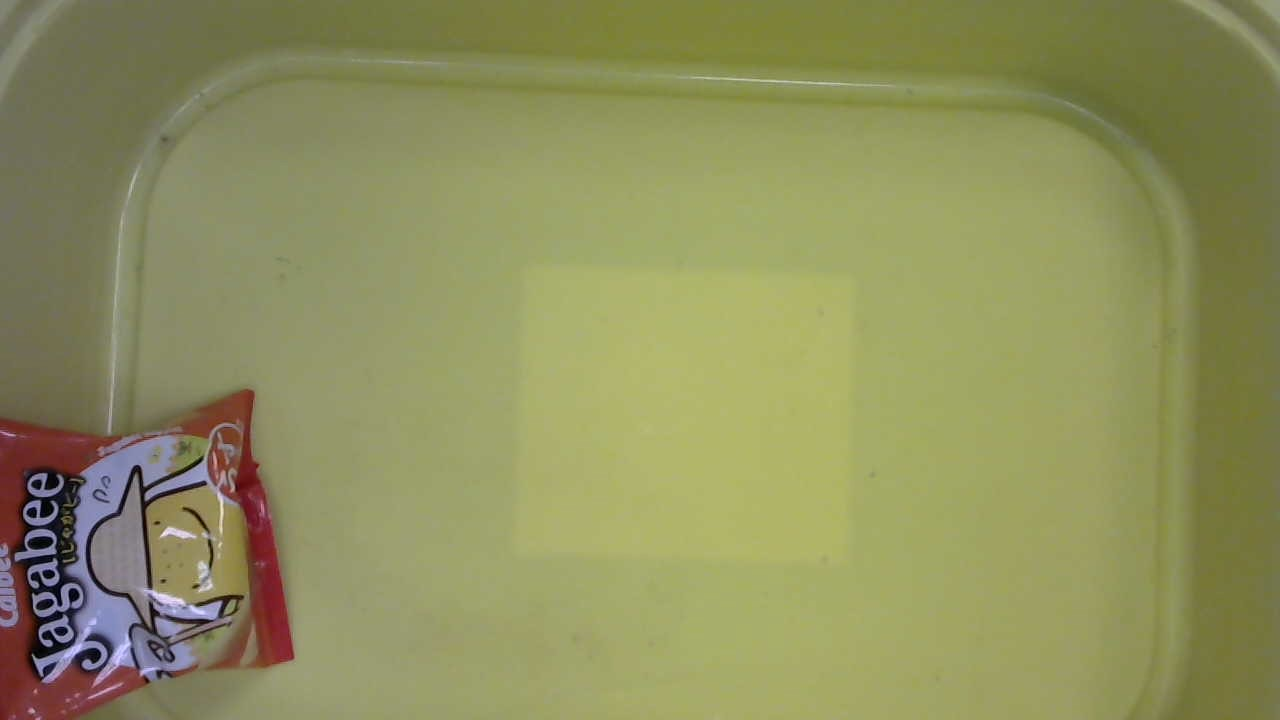JagabeeFarmer: (1, 368, 319, 720)
